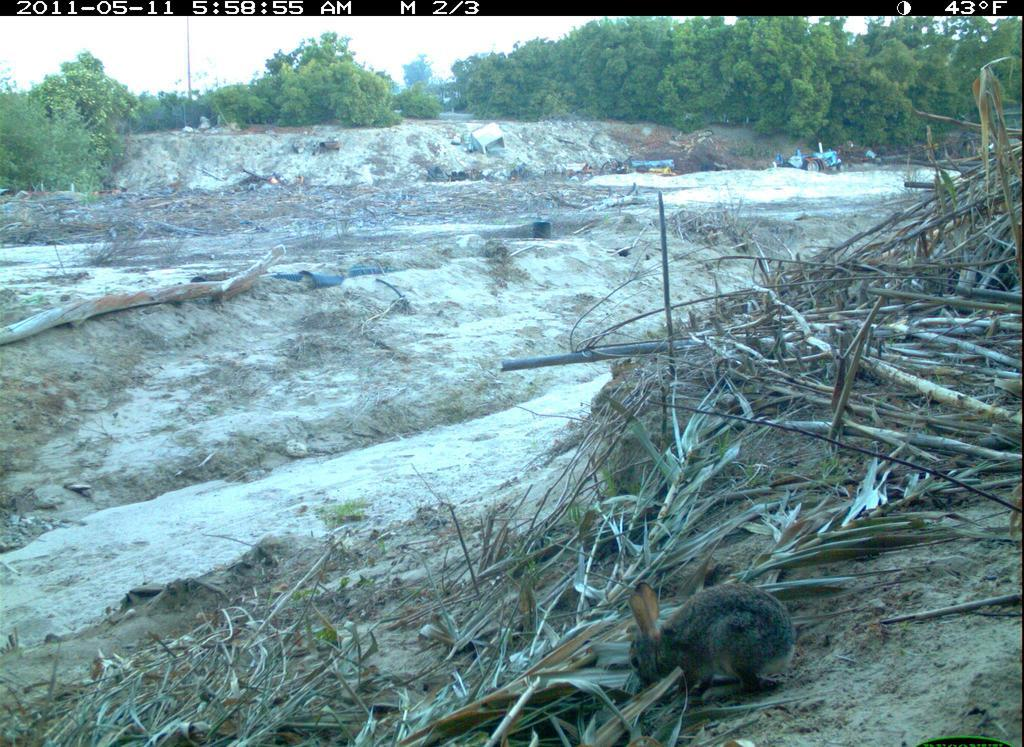rabbit: (617, 573, 801, 703)
